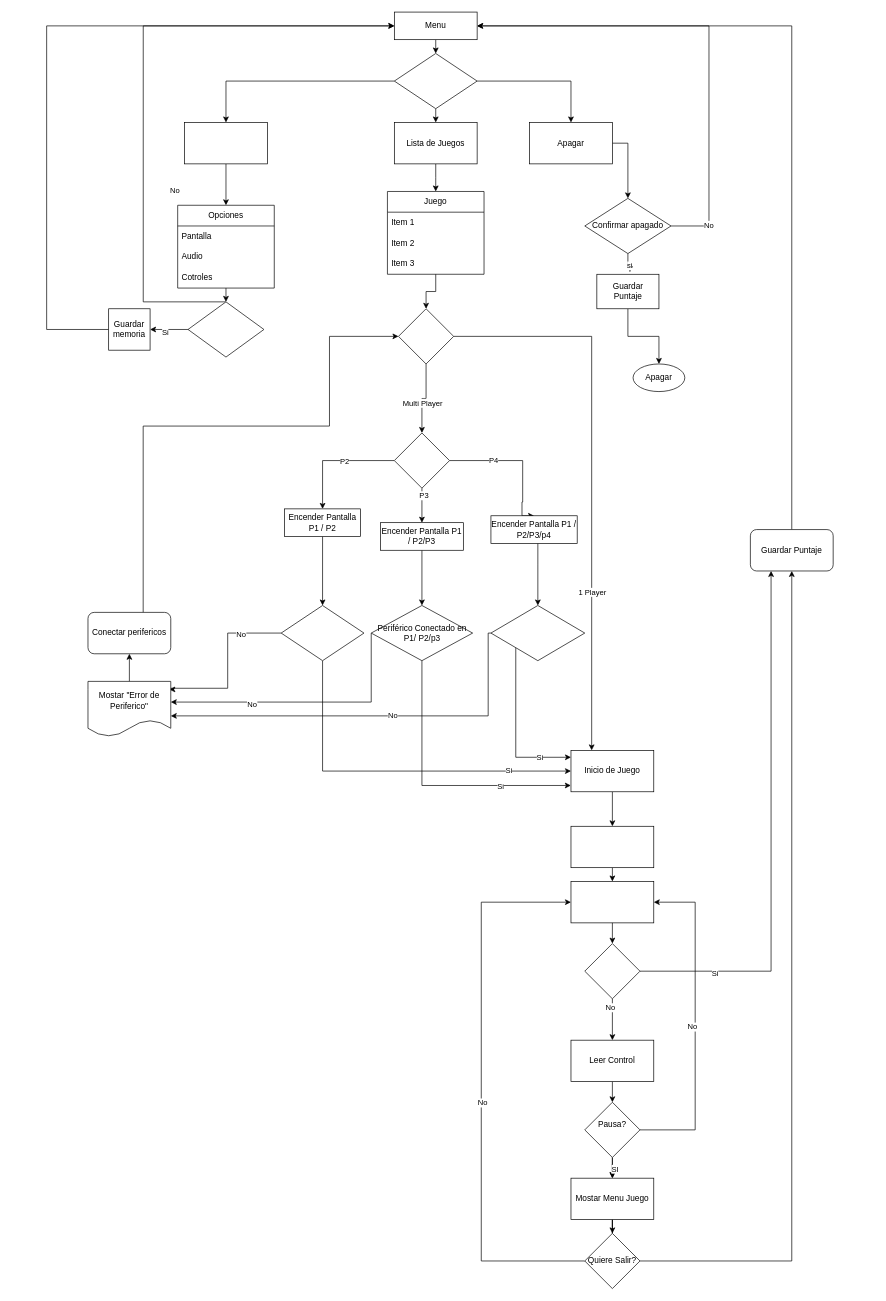
Some shapes in this 886 by 1301 pixel diagram are drawn without their labels. Each missing label, with the centre of its shape:
-Cargar Juego -Procesar Juego: point (612, 847)
Cofiguracion Juego: point (225, 143)
Guardar Confirguracion: point (225, 329)
Loop de Juego: point (612, 902)
Modo de Juego: point (426, 336)
Perdio/ Termino: point (612, 971)
Periférico Conectado en P1/ P2: point (322, 633)
Periférico Conectado en P1/ P2/P3/P4: point (537, 633)
Selec. # Player: point (422, 460)
Selec. Menu opcion: point (435, 81)
